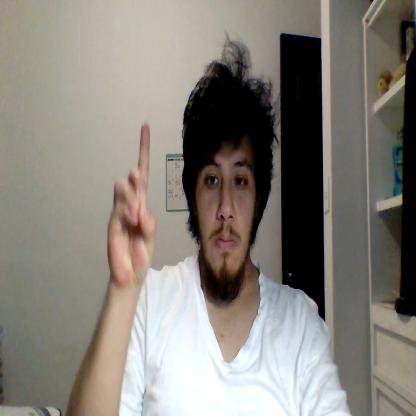D: (107, 122, 156, 284)
